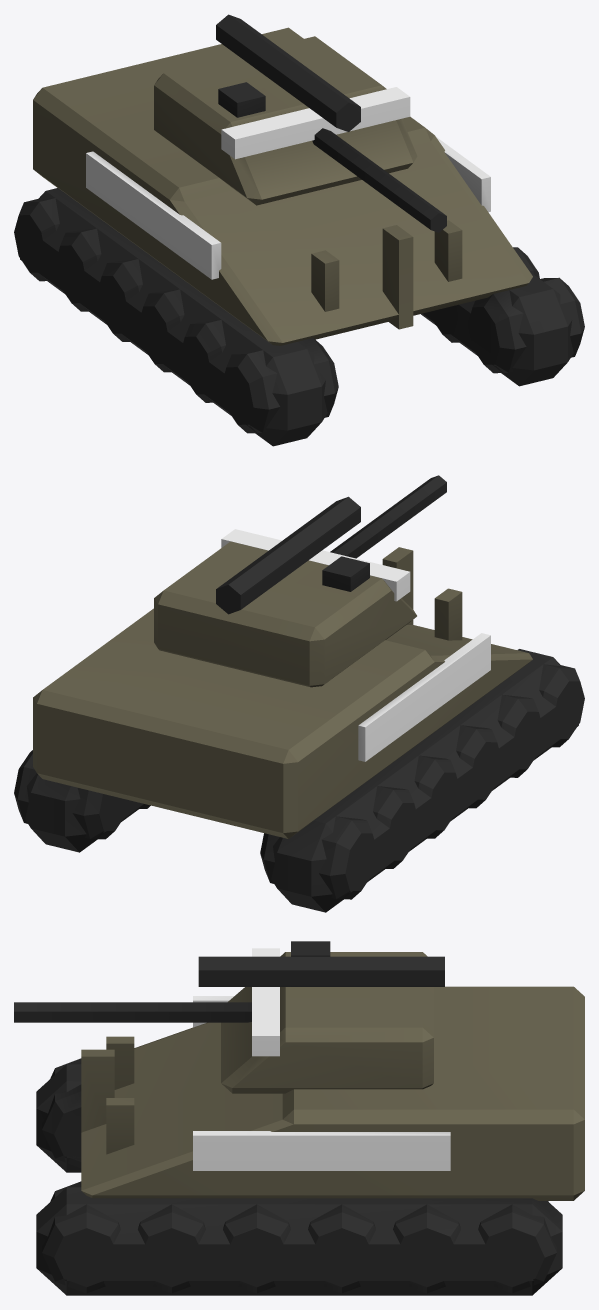
File: ru-bmp-2.glb
3 views of the same model, one above another, from view 1: azimuth 30°, elevation 25°; view 2: azimuth 150°, elevation 25°; view 3: azimuth 270°, elevation 25° (orthographic). The views are drawn at different scales.
Parts seen in each view (by area): view 1: ru-bmp-2, turret; view 2: ru-bmp-2, turret; view 3: ru-bmp-2, turret.
Boxes of the visible parts, x1,y1,x2,y2 form: ru-bmp-2: (14, 27, 584, 446); turret: (154, 14, 446, 232); ru-bmp-2: (14, 547, 584, 912); turret: (154, 475, 446, 687); ru-bmp-2: (36, 986, 584, 1295); turret: (14, 941, 444, 1093).
Bounding box in the file's own units: 0.7 × 0.53 × 1.02.
